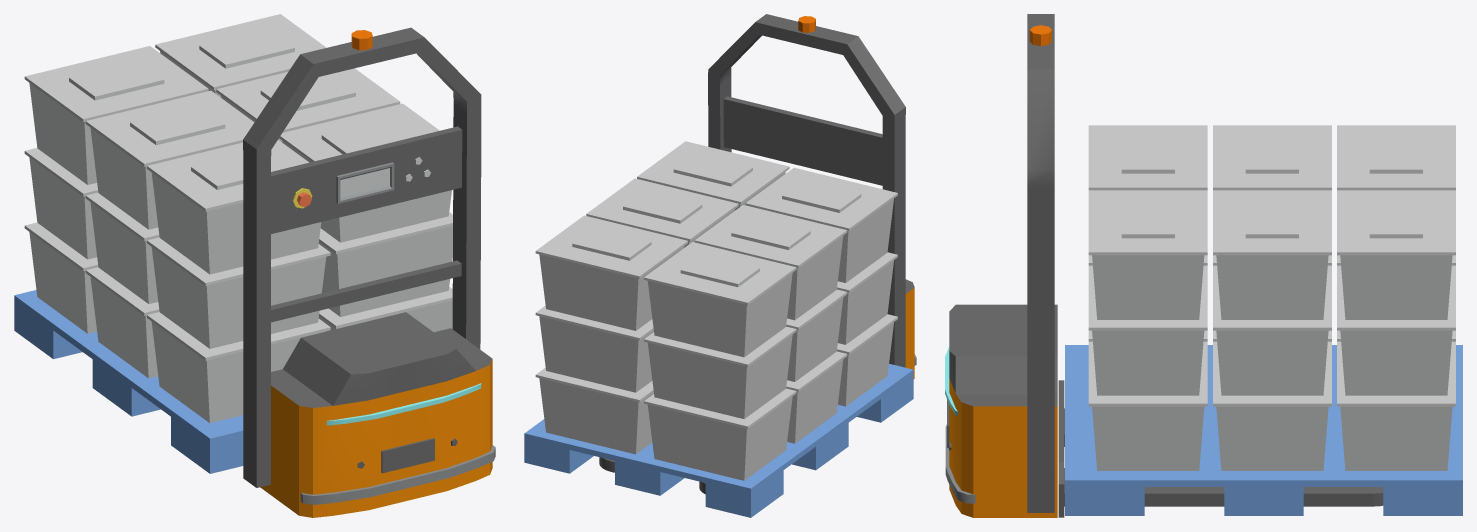
The model's file is agvFreight.glb.
3 renders of one model, left to right at view 1: azimuth 30°, elevation 25°; view 2: azimuth 150°, elevation 25°; view 3: azimuth 270°, elevation 25°, orthographic. The views are drawn at different scales.
Parts seen in each view (by area): view 1: 圆柱, 圆柱.6, 立方体.5-材质.1, 立方体.5-材质.12, 立方体.2, 立方体.8, 立方体.9, 立方体.3-材质.5, 立方体.3-材质.7_1; view 2: 圆柱, 圆柱.6, 立方体.2, 立方体.5-材质.1; view 3: 圆柱, 立方体.2, 圆柱.6, 立方体.5-材质.1, 立方体.5-材质.12.
Part boxes in pixels (bbox=[...]): 圆柱: bbox=[24, 14, 452, 423]; 圆柱.6: bbox=[243, 27, 481, 487]; 立方体.5-材质.1: bbox=[260, 359, 492, 517]; 立方体.5-材质.12: bbox=[271, 312, 492, 407]; 立方体.2: bbox=[14, 290, 243, 473]; 立方体.8: bbox=[300, 445, 495, 504]; 立方体.9: bbox=[326, 383, 481, 425]; 立方体.3-材质.5: bbox=[340, 168, 389, 197]; 立方体.3-材质.7_1: bbox=[336, 162, 394, 203]; 圆柱: bbox=[535, 141, 897, 480]; 圆柱.6: bbox=[599, 14, 905, 494]; 立方体.2: bbox=[524, 363, 913, 517]; 立方体.5-材质.1: bbox=[905, 288, 914, 378]; 圆柱: bbox=[1088, 125, 1455, 470]; 立方体.2: bbox=[1065, 345, 1462, 515]; 圆柱.6: bbox=[947, 14, 1383, 517]; 立方体.5-材质.1: bbox=[949, 378, 1057, 517]; 立方体.5-材质.12: bbox=[949, 304, 1057, 406].
Size of the model in its own units: 32.2 by 48.85 by 52.1.
